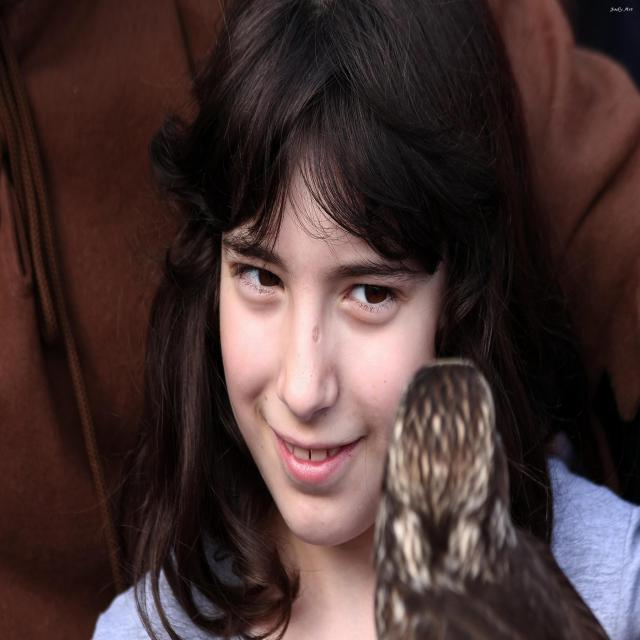no-glass: (236, 257, 402, 312)
